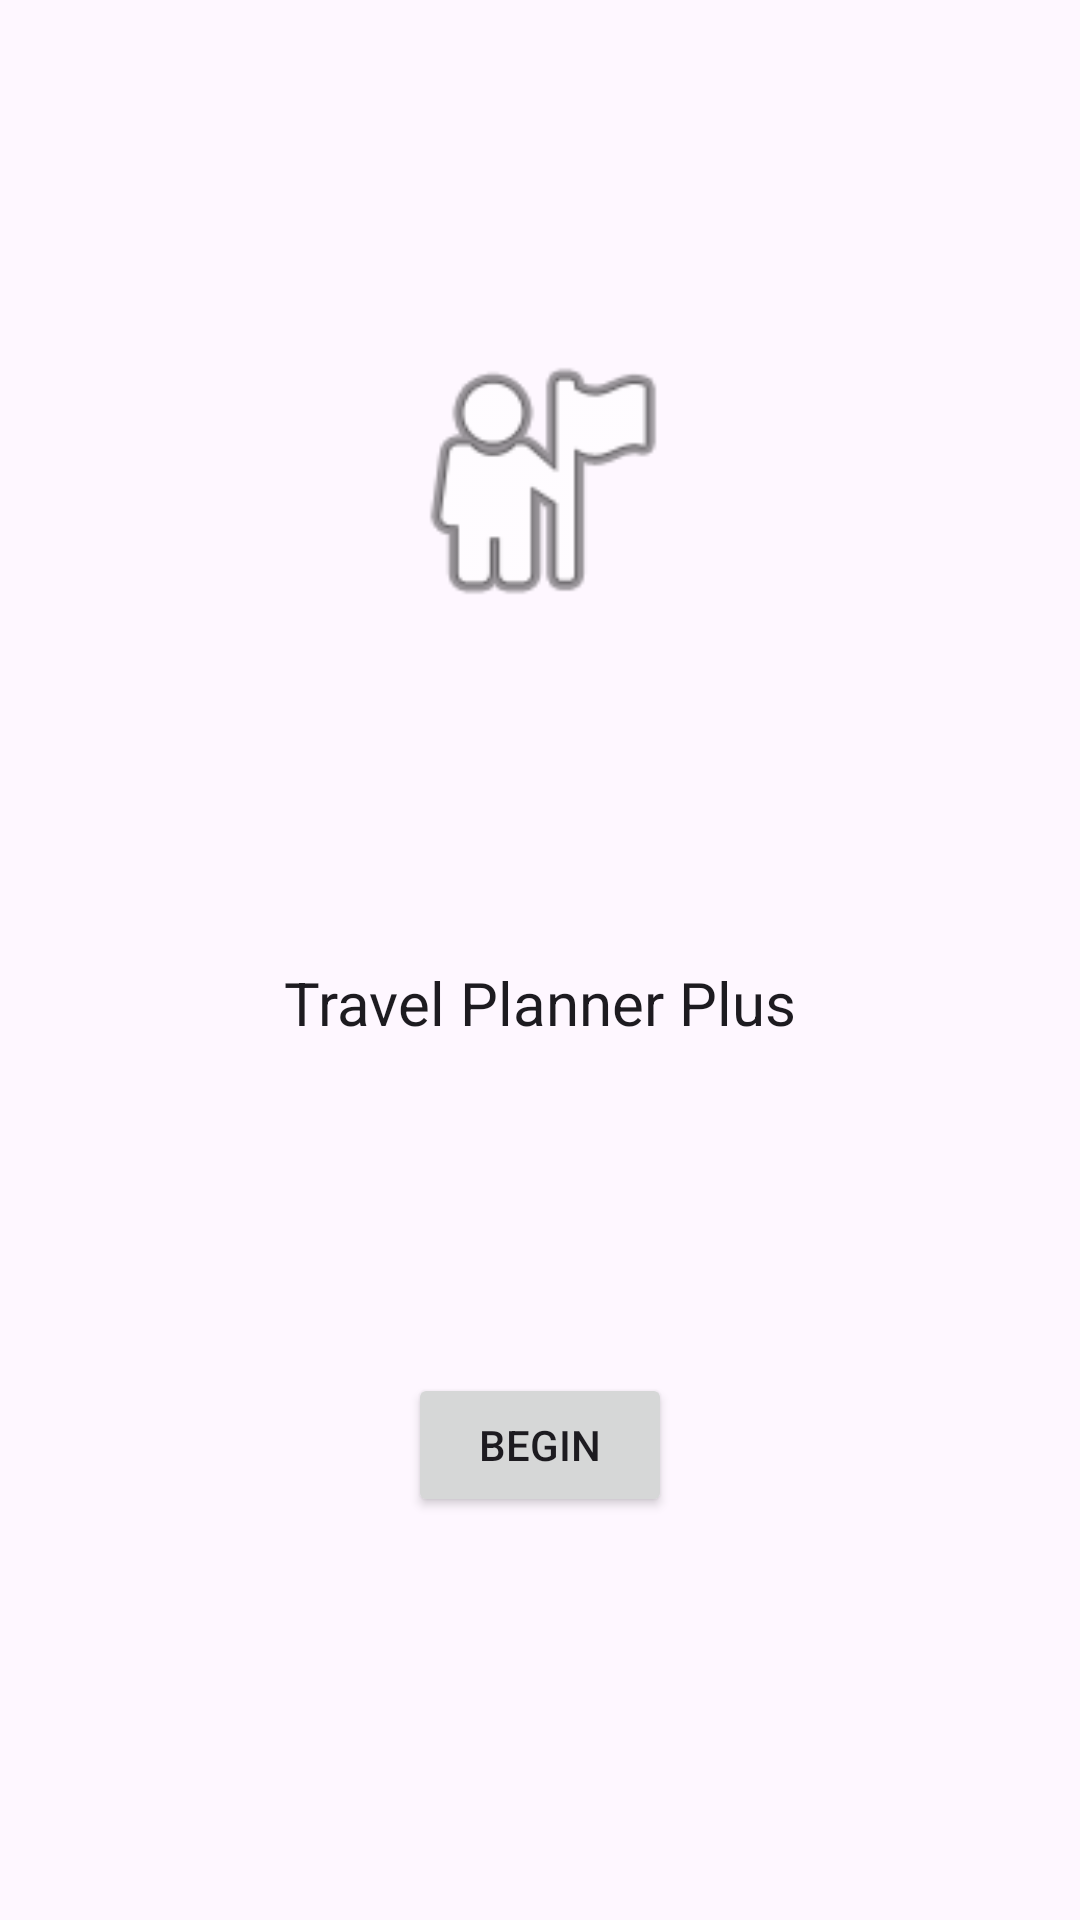

Icons on this 1080*1920 Android screen, each with the point to tap as point (x, y):
myplaces: point (543, 481)
